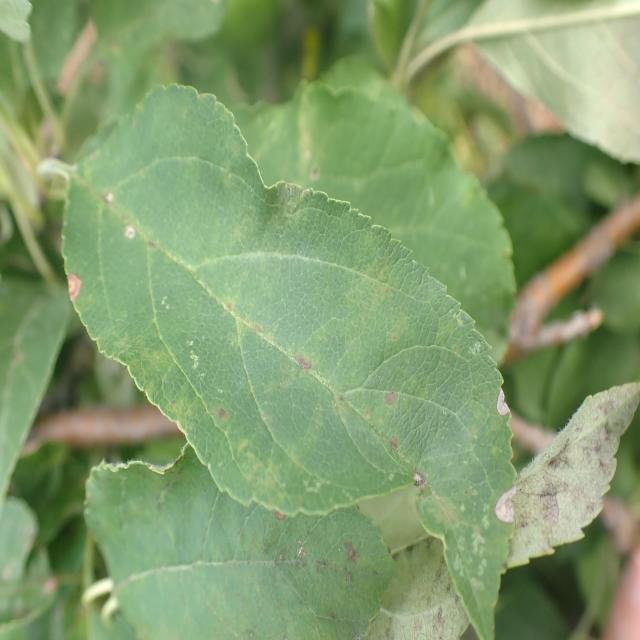frog-eye-leaf-spot: (62, 80, 520, 637), (82, 442, 399, 640)
